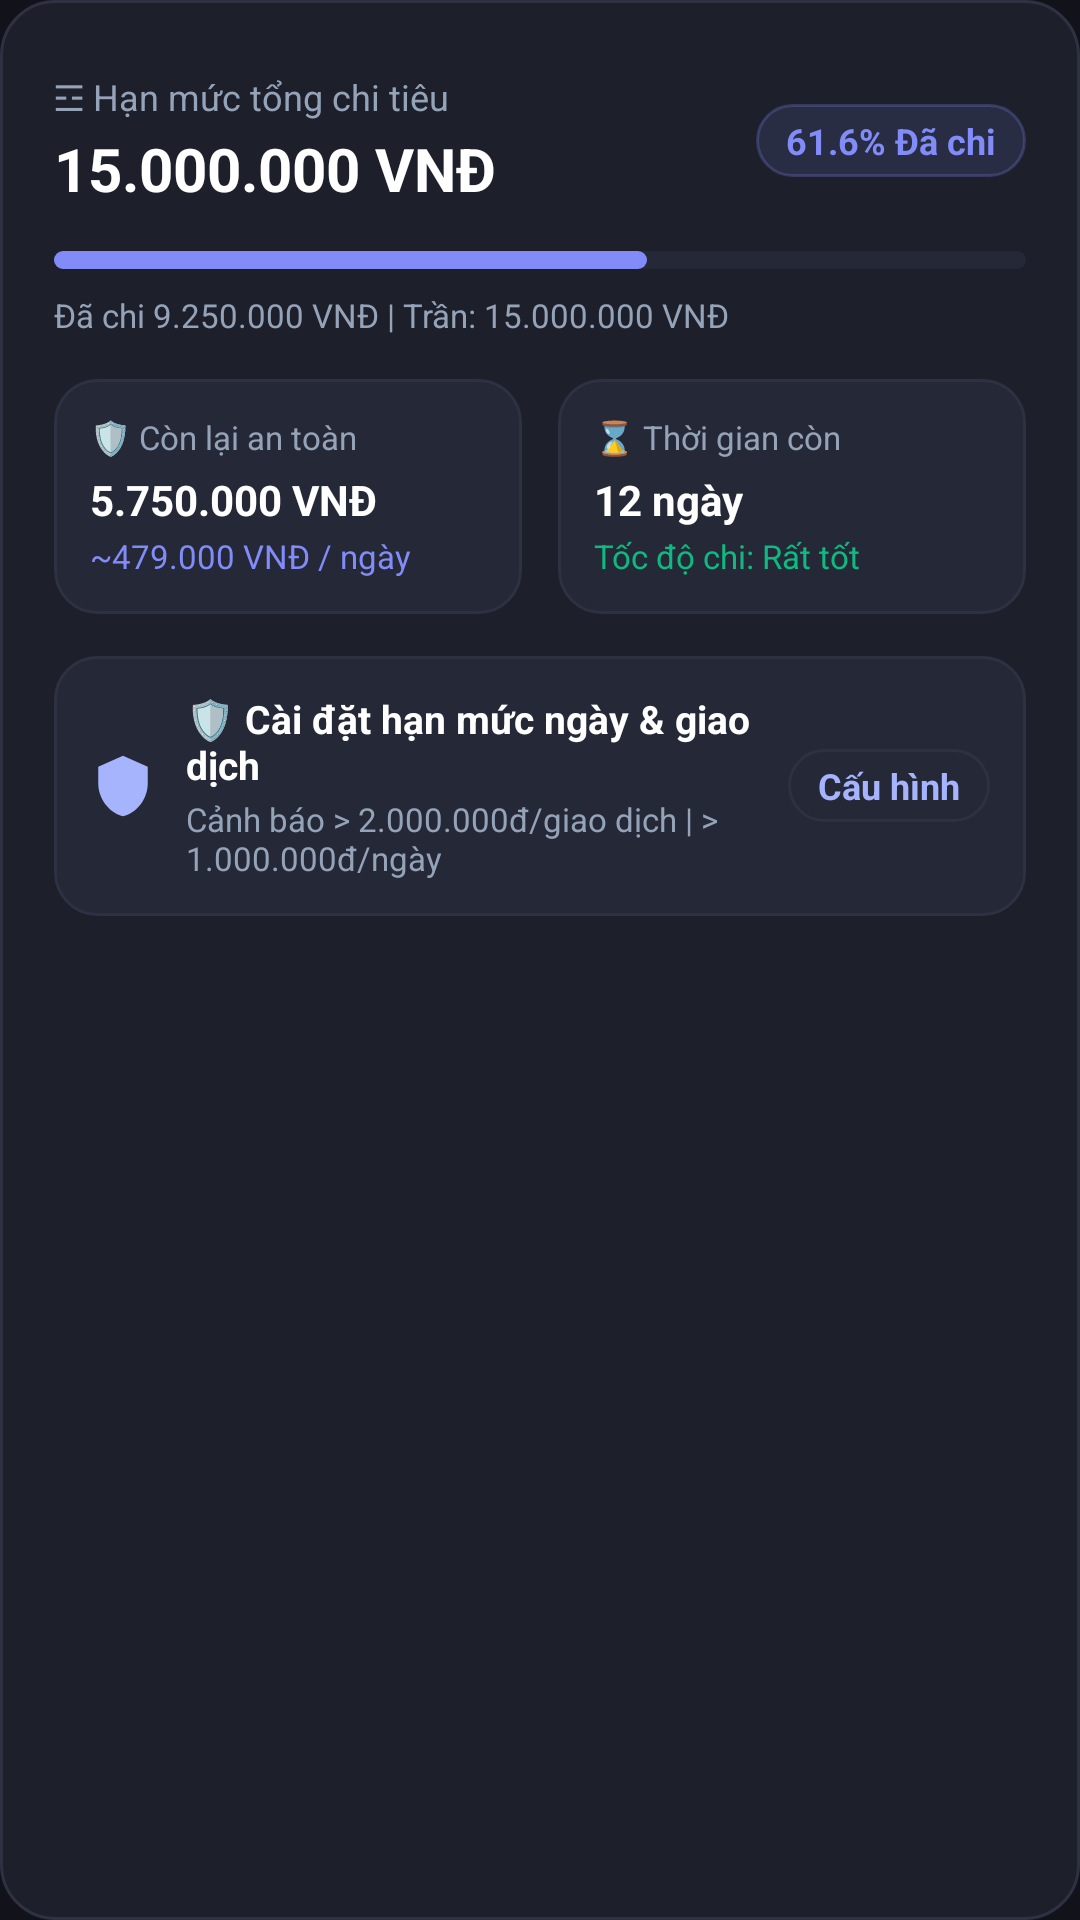

Screen size 1080x1920. Icon name, then its center in pixels as point (x, y):
shield: point (123, 786)
